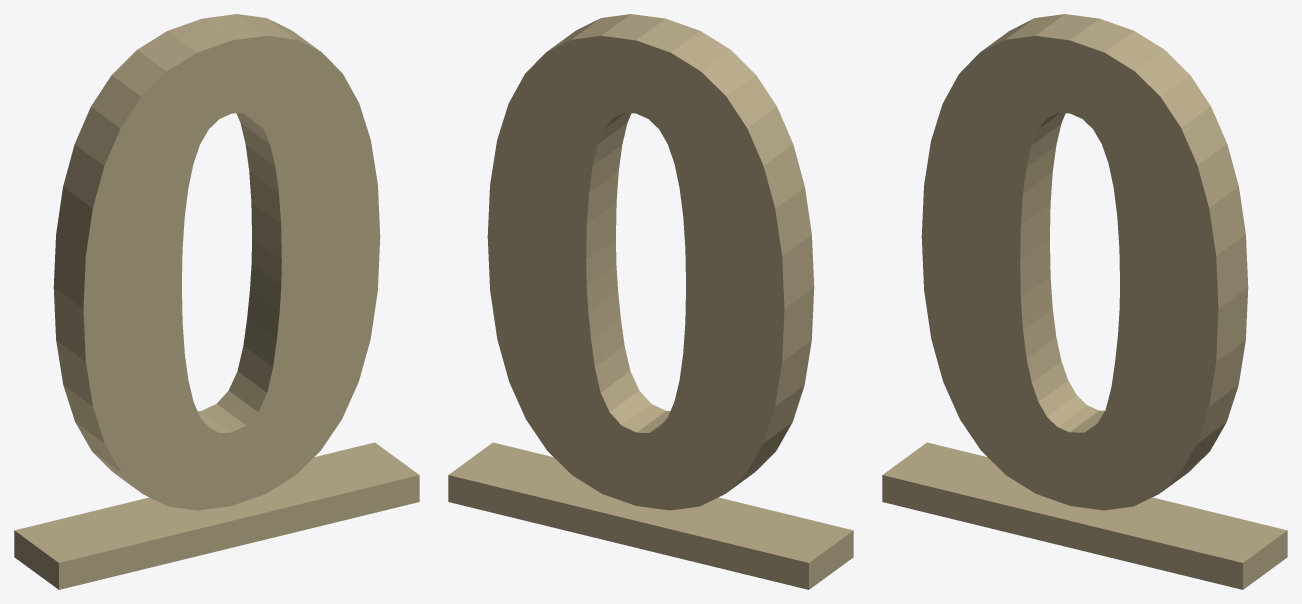
The model's file is num_0.glb.
3 views of the same model, side by side, from view 1: azimuth 30°, elevation 25°; view 2: azimuth 150°, elevation 25°; view 3: azimuth 330°, elevation 25° (orthographic).
Visible parts, largest first — view 1: num_0; view 2: num_0; view 3: num_0.
Part boxes in pixels (x1,y1,x2,y2): num_0: [14, 14, 419, 589]; num_0: [448, 14, 853, 589]; num_0: [882, 14, 1287, 589].
Size of the model in its own units: 1.4 by 1.86 by 0.3.
